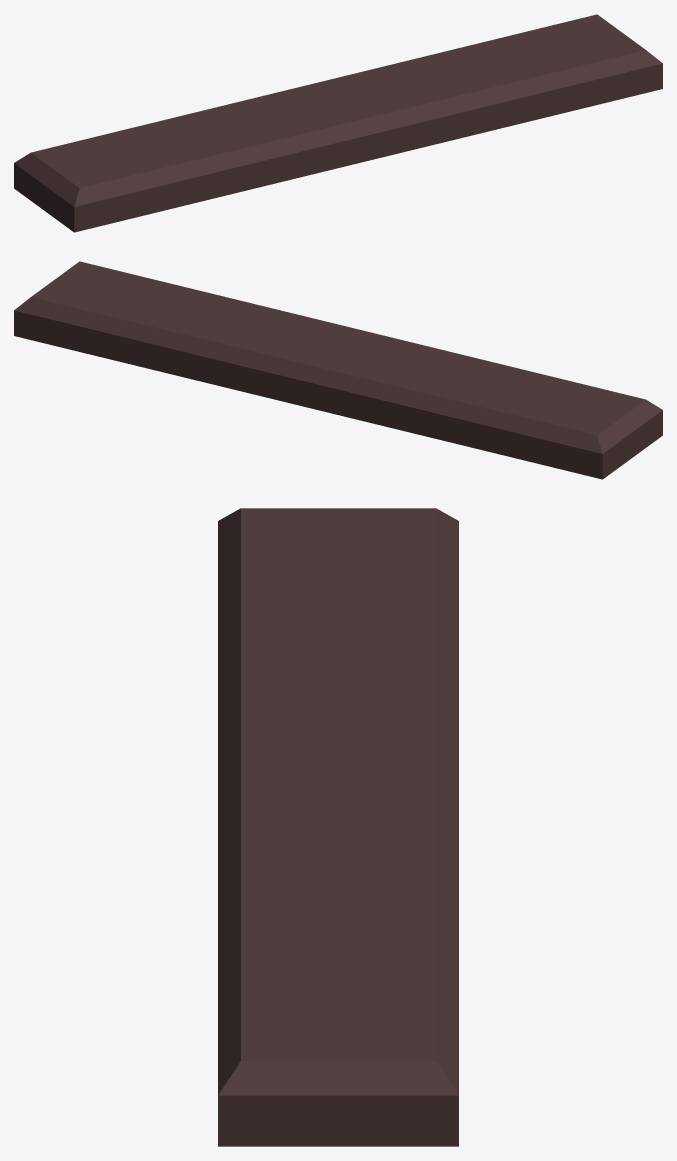
Rendered from flurescente_lujuria.fbx.
3 views of the same model, one above another, from view 1: azimuth 30°, elevation 25°; view 2: azimuth 150°, elevation 25°; view 3: azimuth 270°, elevation 25° (orthographic). The views are drawn at different scales.
Visible parts, largest first — view 1: Box017; view 2: Box017; view 3: Box017.
Boxes of the visible parts, x1,y1,x2,y2 form: Box017: (14,14,662,232); Box017: (14,261,662,479); Box017: (218,508,458,1146).
Bounding box in the file's own units: 104 × 6.29 × 18.38.
